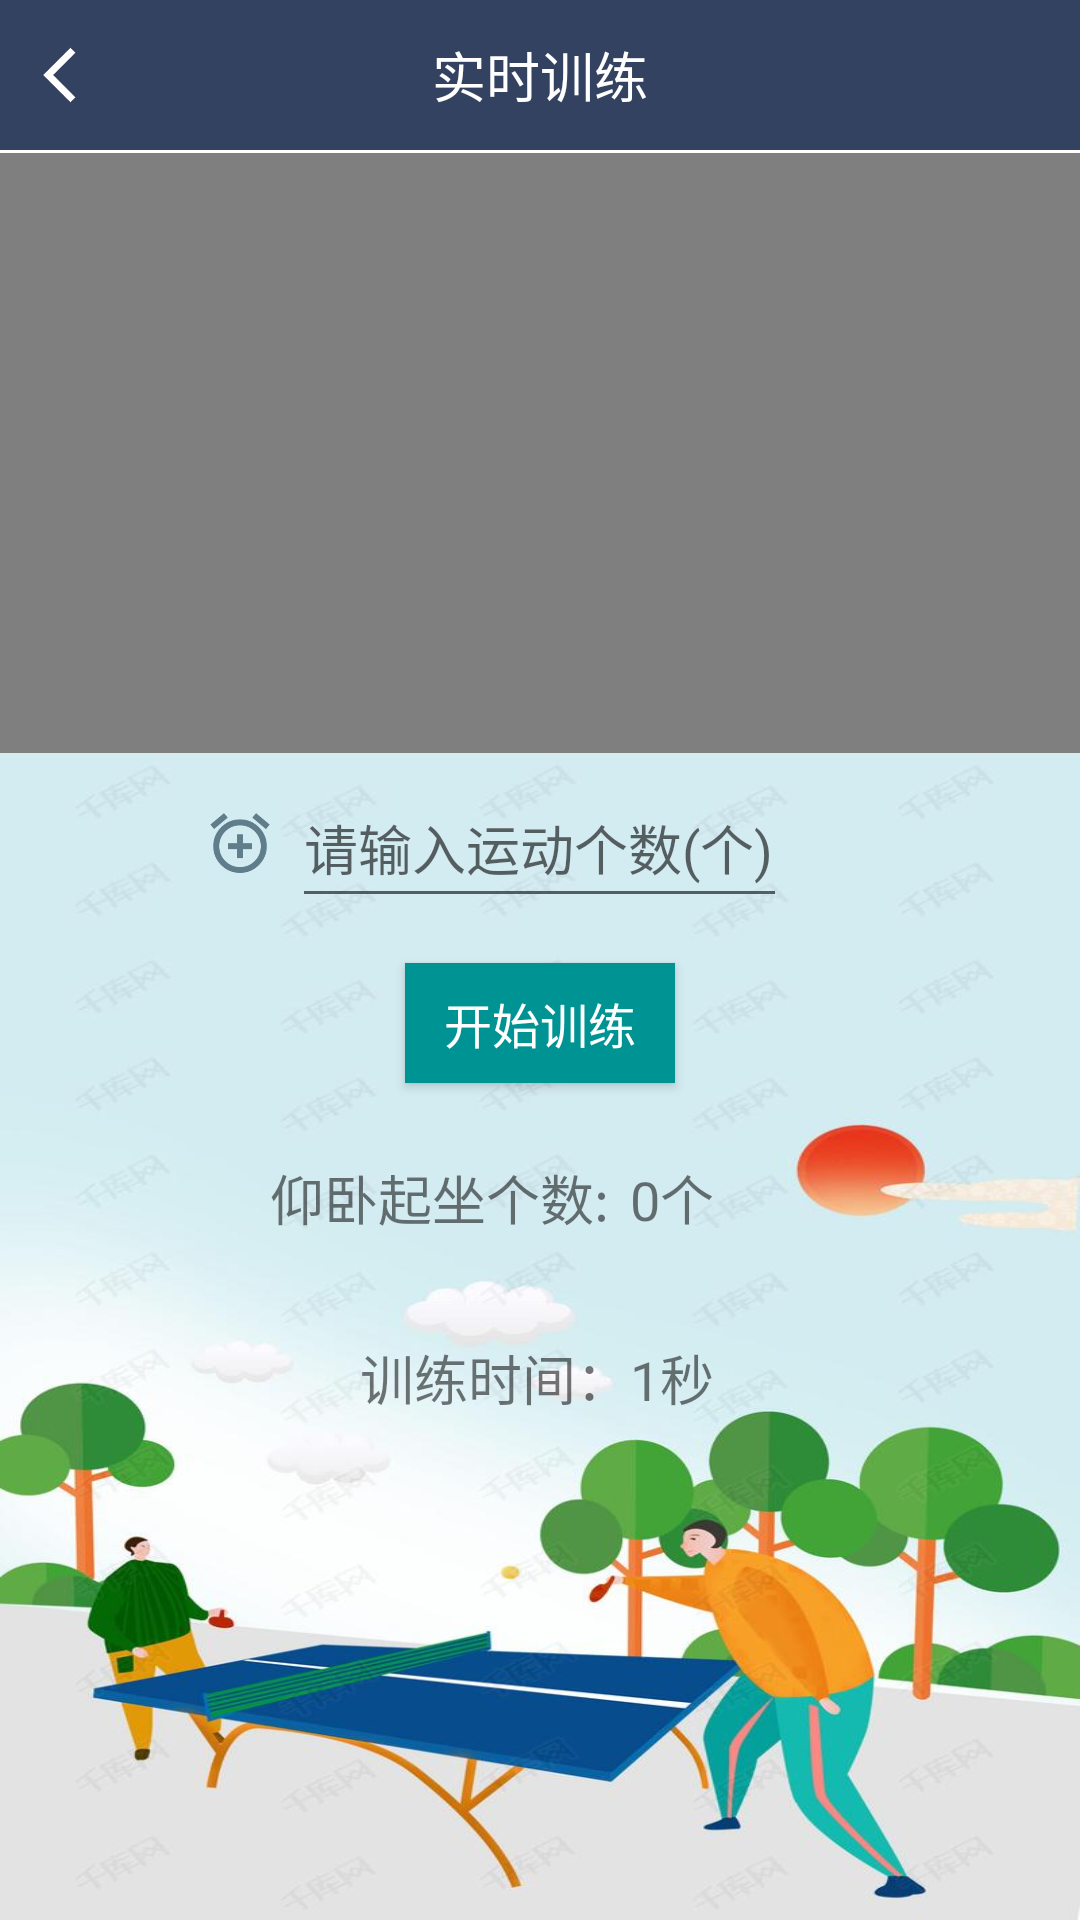

Icons on this 1080 × 1920 Android screen, each with its box as {"left": x1, "top": y1, "right": x2, "bottom": y2}:
alarm add: {"left": 210, "top": 813, "right": 270, "bottom": 873}
arrow back: {"left": 43, "top": 48, "right": 76, "bottom": 102}
